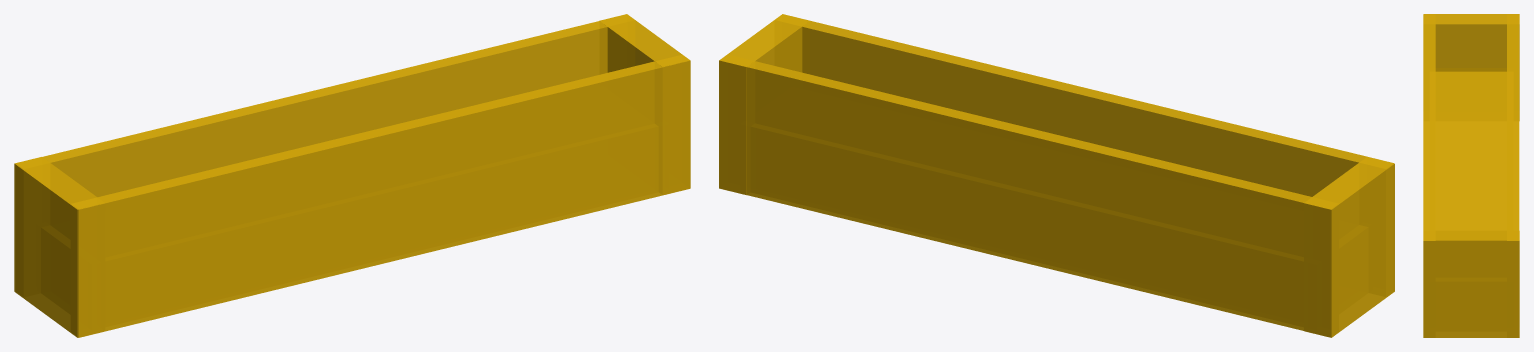
File: SM_Bld_Gate_Fort_Slot_01_Collision.fbx
3 views of the same model, side by side, from view 1: azimuth 30°, elevation 25°; view 2: azimuth 150°, elevation 25°; view 3: azimuth 270°, elevation 25° (orthographic). The views are drawn at different scales.
Parts seen in each view (by area): view 1: SM_Bld_Gate_Fort_Slot_01_Collision; view 2: SM_Bld_Gate_Fort_Slot_01_Collision; view 3: SM_Bld_Gate_Fort_Slot_01_Collision.
Part boxes in pixels (x1,y1,x2,y2): SM_Bld_Gate_Fort_Slot_01_Collision: (14,14,690,337); SM_Bld_Gate_Fort_Slot_01_Collision: (719,14,1394,337); SM_Bld_Gate_Fort_Slot_01_Collision: (1423,14,1519,337).
Size of the model in its own units: 3054 by 610 by 549.
